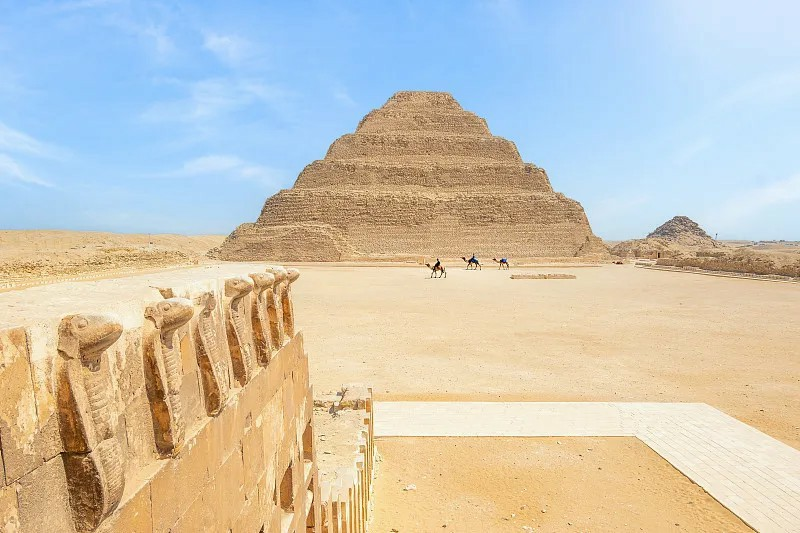Pyramid: (204, 91, 611, 258)
